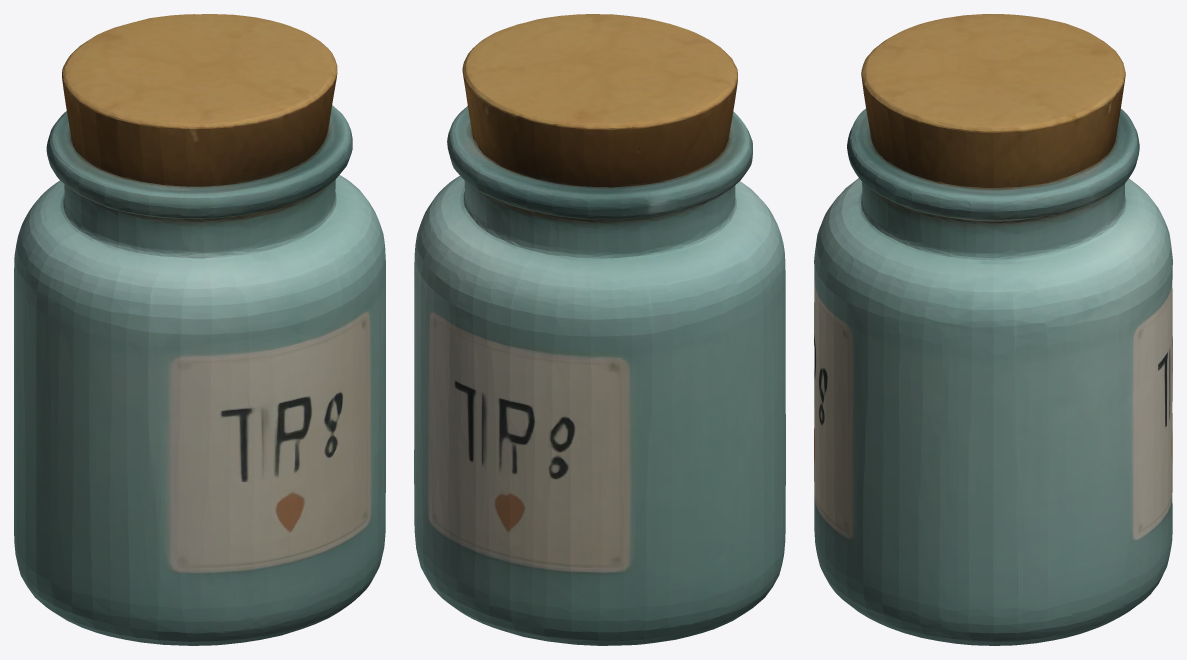
Rendered from item_tip_jar_pastel.glb.
3 renders of one model, left to right at view 1: azimuth 30°, elevation 25°; view 2: azimuth 150°, elevation 25°; view 3: azimuth 270°, elevation 25°, orthographic.
Parts seen in each view (by area): view 1: geometry_0; view 2: geometry_0; view 3: geometry_0.
Boxes of the visible parts, left/top/right/bottom form: geometry_0: left=14, top=14, right=385, bottom=645; geometry_0: left=414, top=14, right=785, bottom=645; geometry_0: left=814, top=14, right=1172, bottom=645.
Size of the model in its own units: 0.664 by 0.9994 by 0.6346.
Materials: 1 (1 with a texture image).
